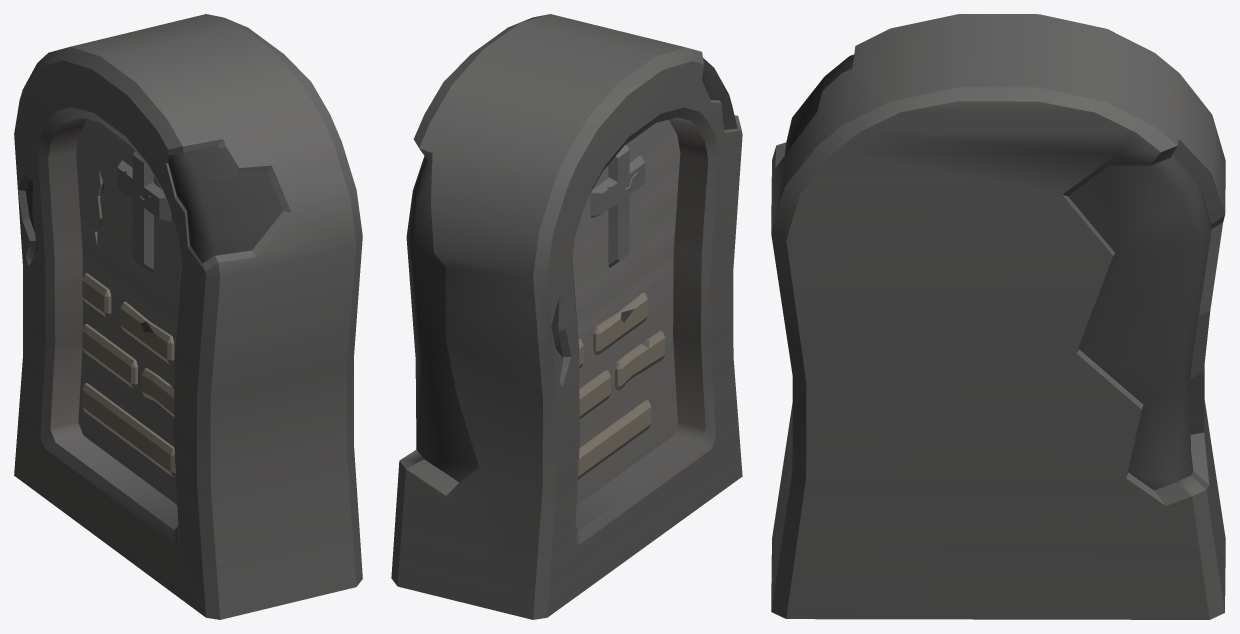
The model's file is Tombstone_3_2.obj.
The picture shows the model from 3 angles, left to right: view 1: azimuth 30°, elevation 25°; view 2: azimuth 150°, elevation 25°; view 3: azimuth 270°, elevation 25°; orthographic projection. The views are drawn at different scales.
Parts seen in each view (by area): view 1: Tombstone_3_2; view 2: Tombstone_3_2; view 3: Tombstone_3_2.
Part boxes in pixels (left/top/right/bottom): Tombstone_3_2: left=14, top=14, right=362, bottom=619; Tombstone_3_2: left=391, top=14, right=742, bottom=619; Tombstone_3_2: left=771, top=14, right=1225, bottom=619.
Size of the model in its own units: 0.3085 by 0.8799 by 0.6906.
